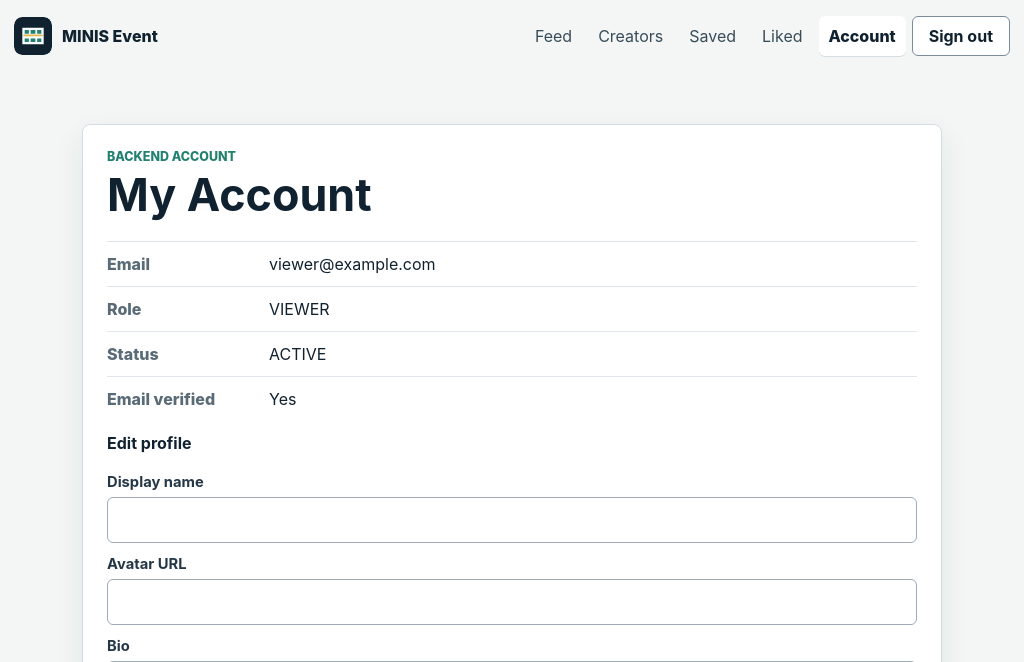
Test: AppRoutes account routes › signs out and removes authenticated application state
The width and height of the screenshot is (1024, 662).
Check: the heading "My Account" is shown, box [107,168,372,222]
Click the button "Sign out".
click(961, 36)  # box [912,16,1010,56]
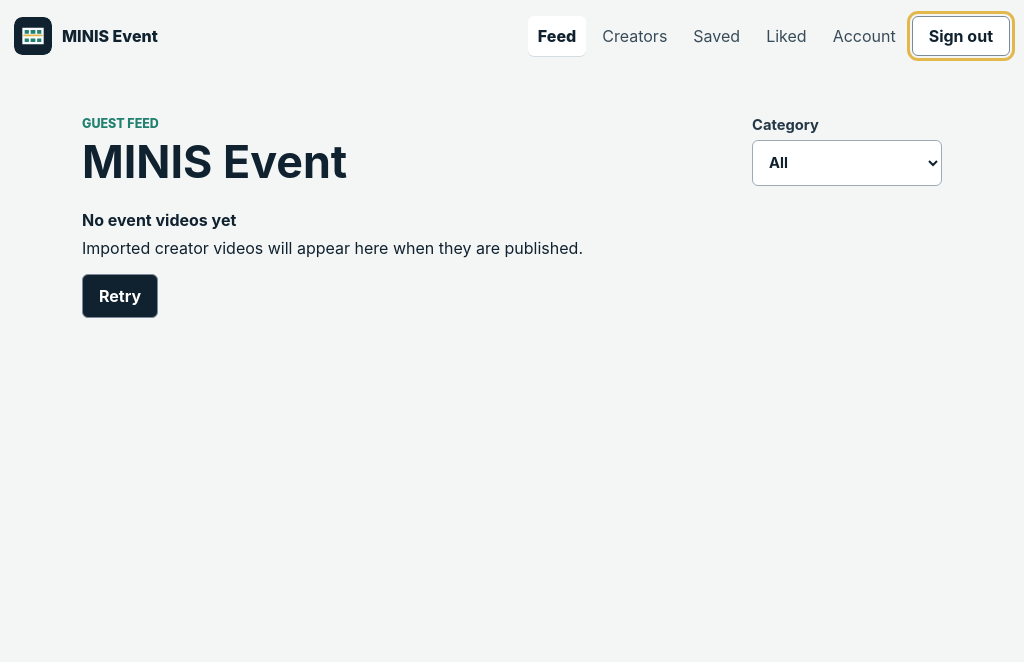
Check: the heading "No event videos yet" is shown, box [82,210,236,230]
